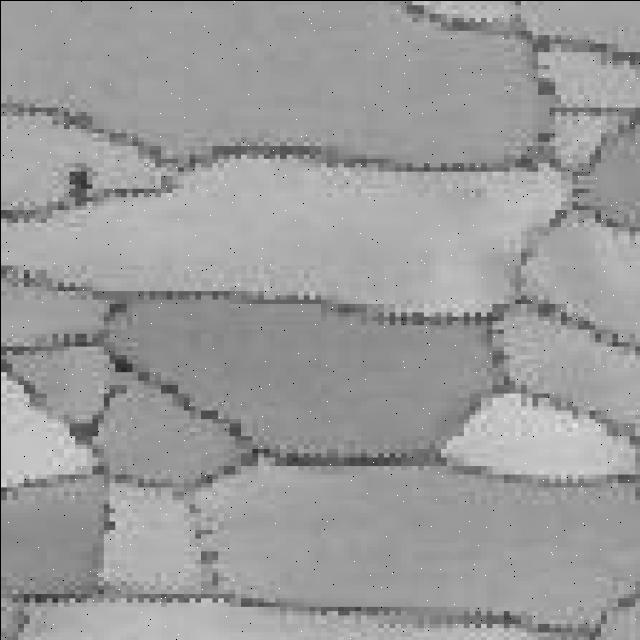good_void: (56, 164, 99, 211)
